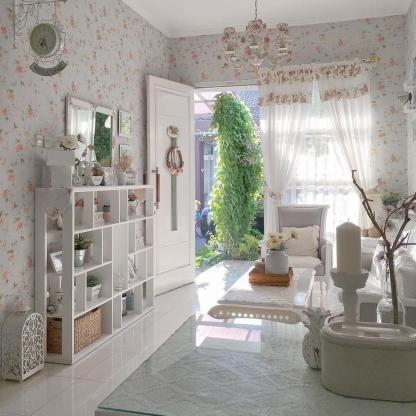bantal: (286, 225, 317, 258)
tanaman: (212, 91, 258, 242), (259, 233, 298, 274)
